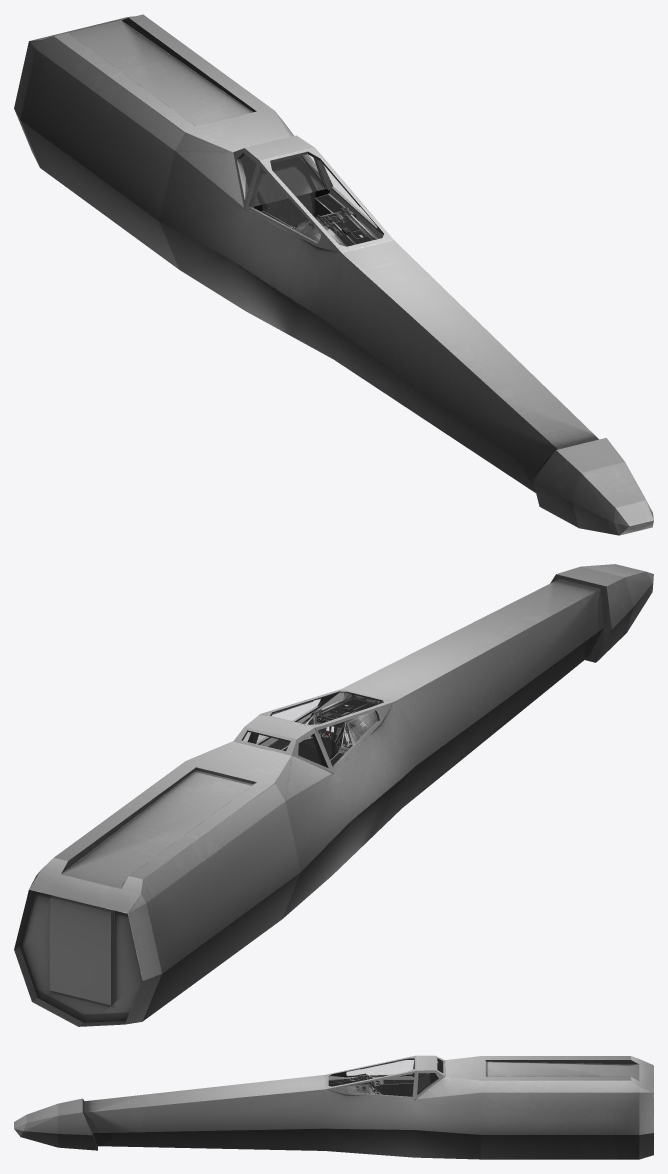
The model's file is x-wing_cockpit_version_2.glb.
The picture shows the model from 3 angles, top to bottom: view 1: azimuth 30°, elevation 25°; view 2: azimuth 150°, elevation 25°; view 3: azimuth 270°, elevation 25°; orthographic projection. The views are drawn at different scales.
Parts seen in each view (by area): view 1: hull, canopy, windows, console, canopy_back, cockpit_1; view 2: hull, windows, console, canopy_back, canopy; view 3: hull, windows, canopy, console, canopy_back, cockpit_1.
Part boxes in pixels (x1,y1,x2,y2): hull: [14, 14, 653, 535]; canopy: [245, 147, 393, 252]; windows: [249, 155, 372, 242]; console: [260, 194, 376, 246]; canopy_back: [233, 135, 326, 208]; cockpit_1: [254, 189, 331, 226]; hull: [14, 564, 653, 1026]; windows: [242, 699, 378, 767]; console: [267, 697, 378, 765]; canopy_back: [233, 714, 332, 772]; canopy: [255, 689, 393, 772]; hull: [14, 1056, 653, 1159]; windows: [346, 1059, 442, 1096]; canopy: [325, 1055, 416, 1099]; console: [328, 1075, 413, 1094]; canopy_back: [414, 1055, 444, 1098]; cockpit_1: [374, 1084, 413, 1096].
Size of the model in its own units: 2.12 by 2.29 by 14.58.
Materials: 18 (16 with a texture image).
